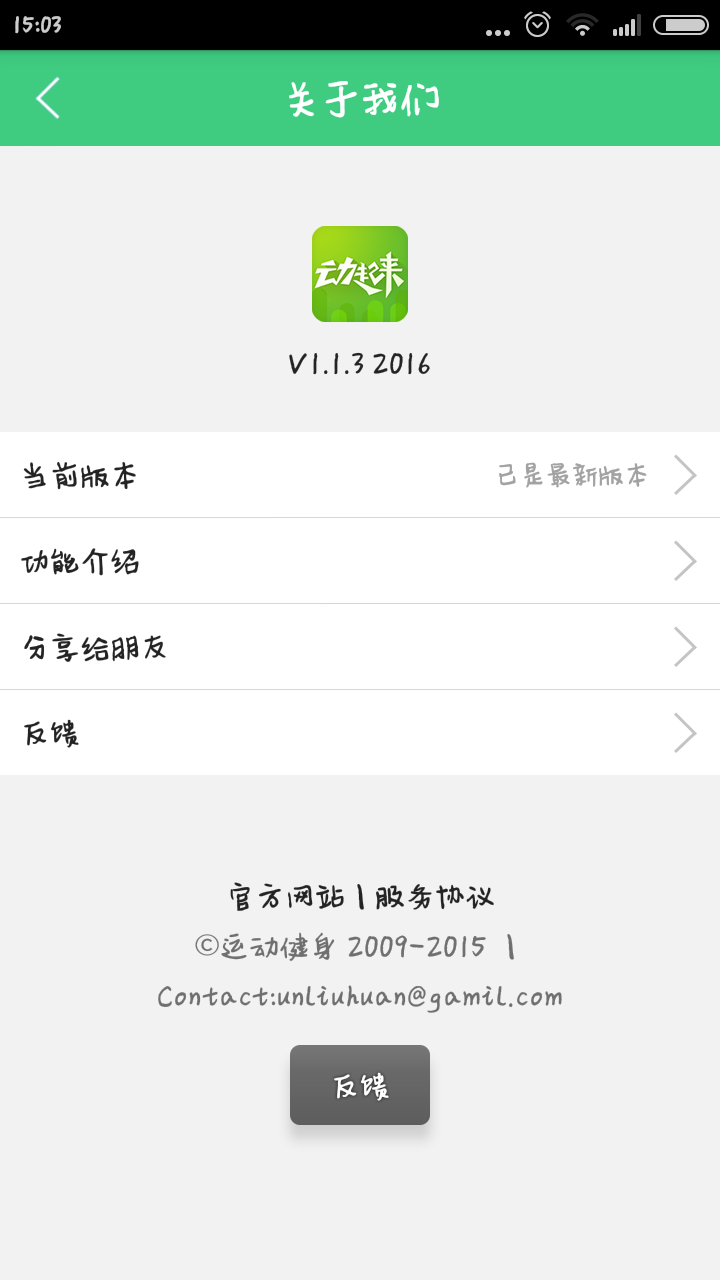alert: (285, 1042, 436, 1133)
